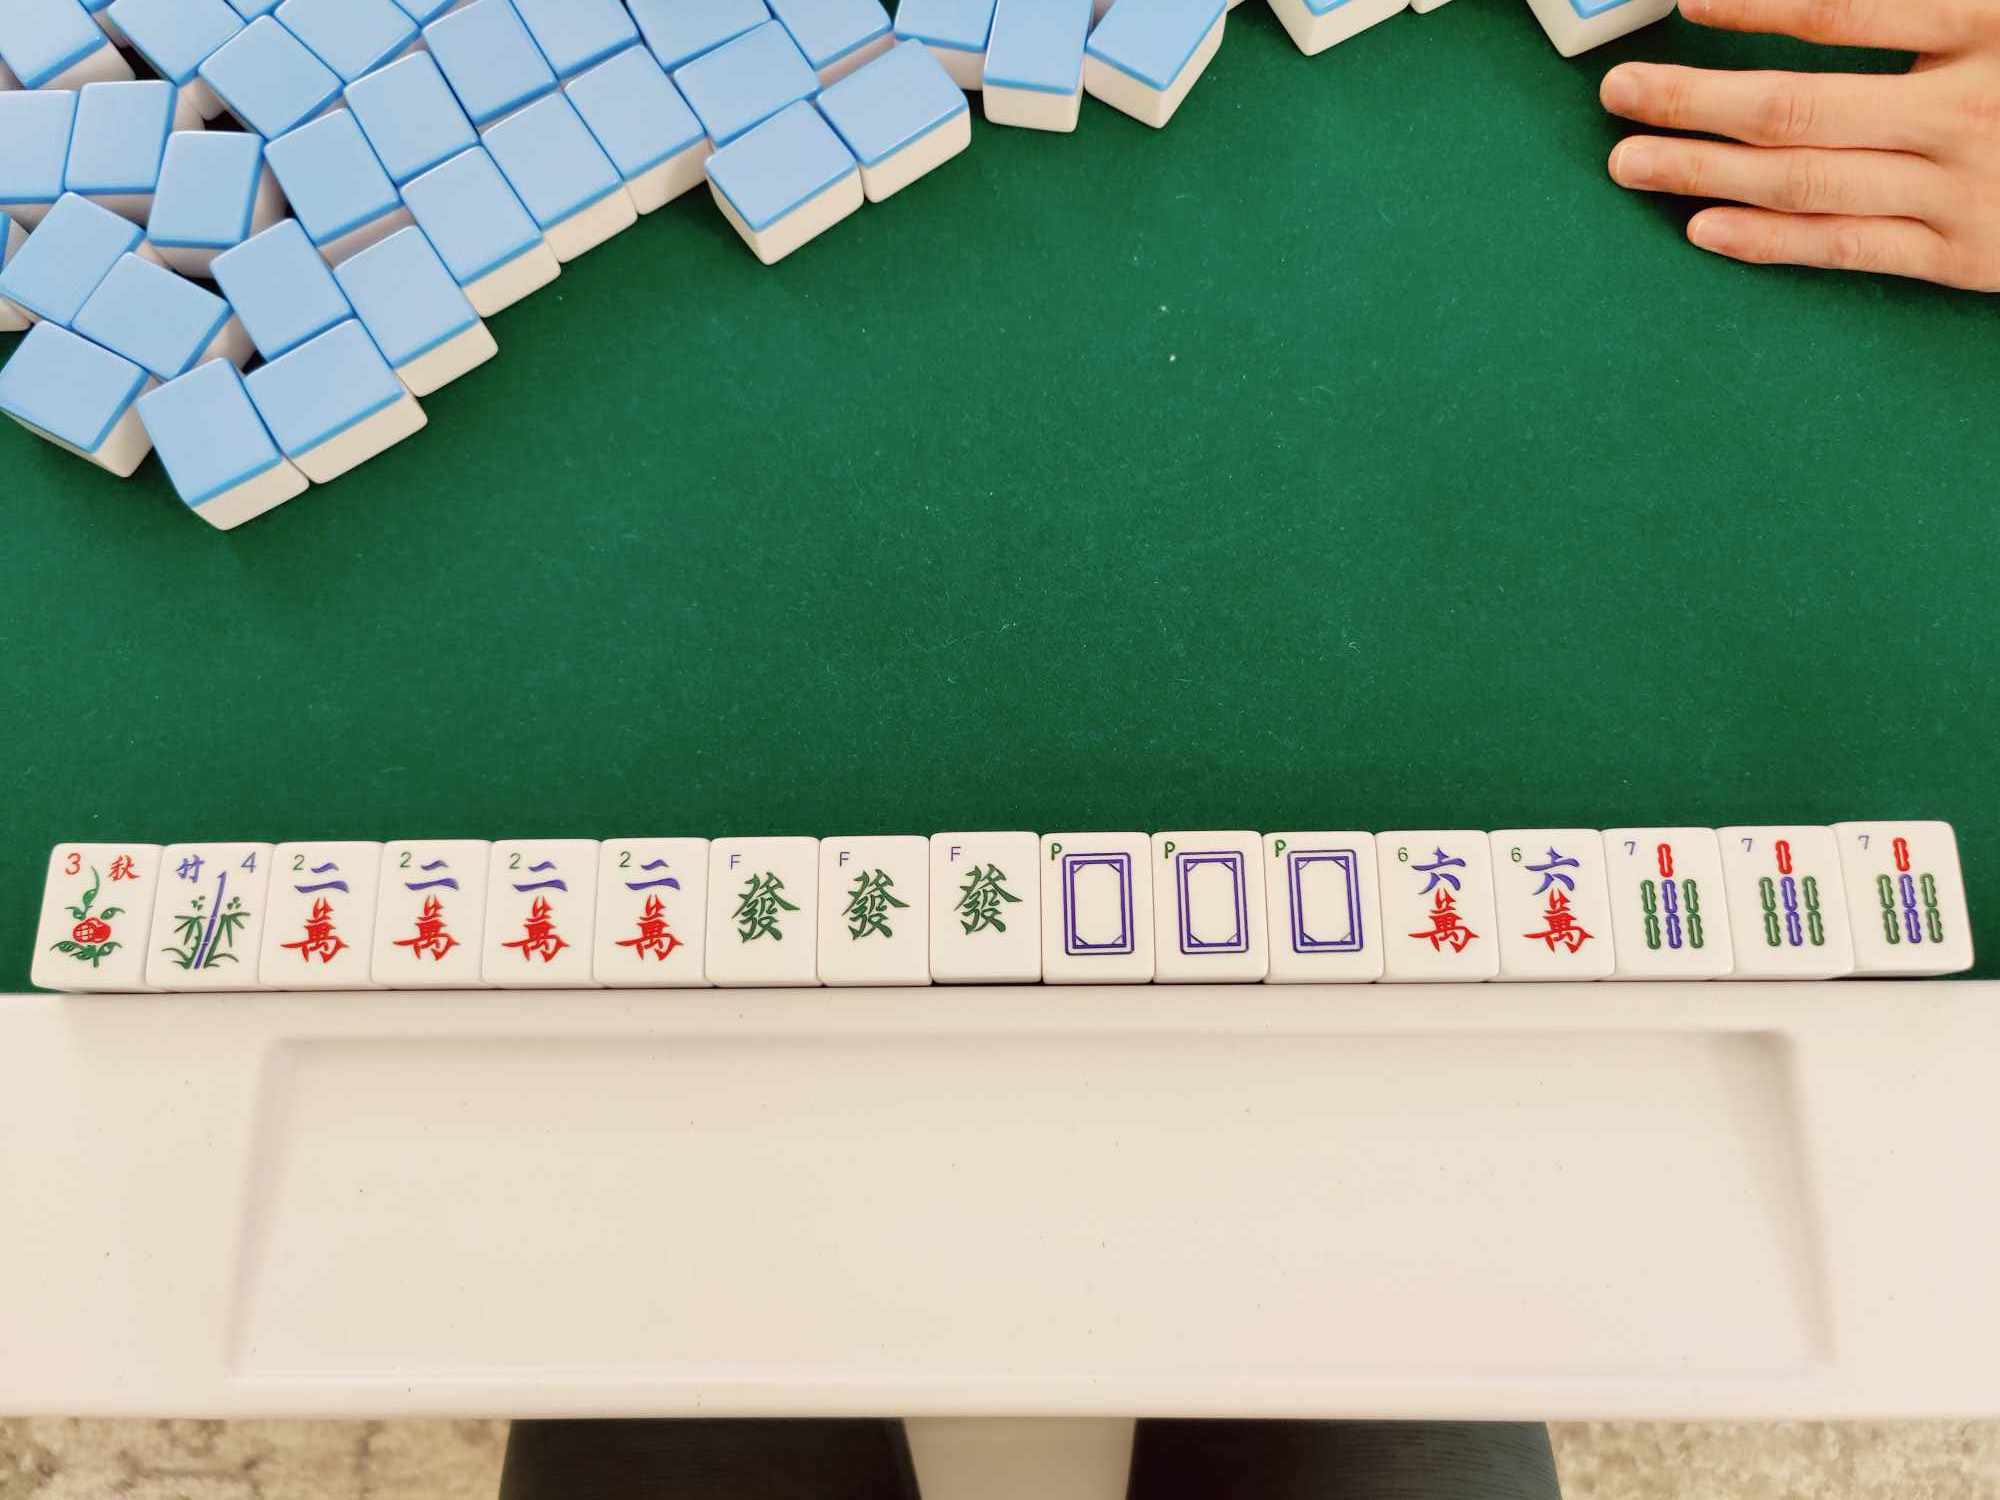bamboo-seven: (1735, 830, 1831, 964), (1619, 834, 1712, 966), (1855, 829, 1946, 955)
character-six: (1384, 834, 1483, 974), (1502, 835, 1597, 971)
character-two: (487, 843, 594, 985), (600, 838, 706, 982), (378, 841, 483, 983), (266, 845, 373, 980)
flower-blue_four: (150, 845, 261, 982)
flower-red_three: (50, 849, 140, 983)
honor-blue_dragon: (1044, 837, 1146, 978), (1272, 834, 1372, 978), (1162, 834, 1258, 978)
honor-green_dragon: (932, 835, 1038, 978), (820, 838, 926, 978), (710, 840, 816, 978)
